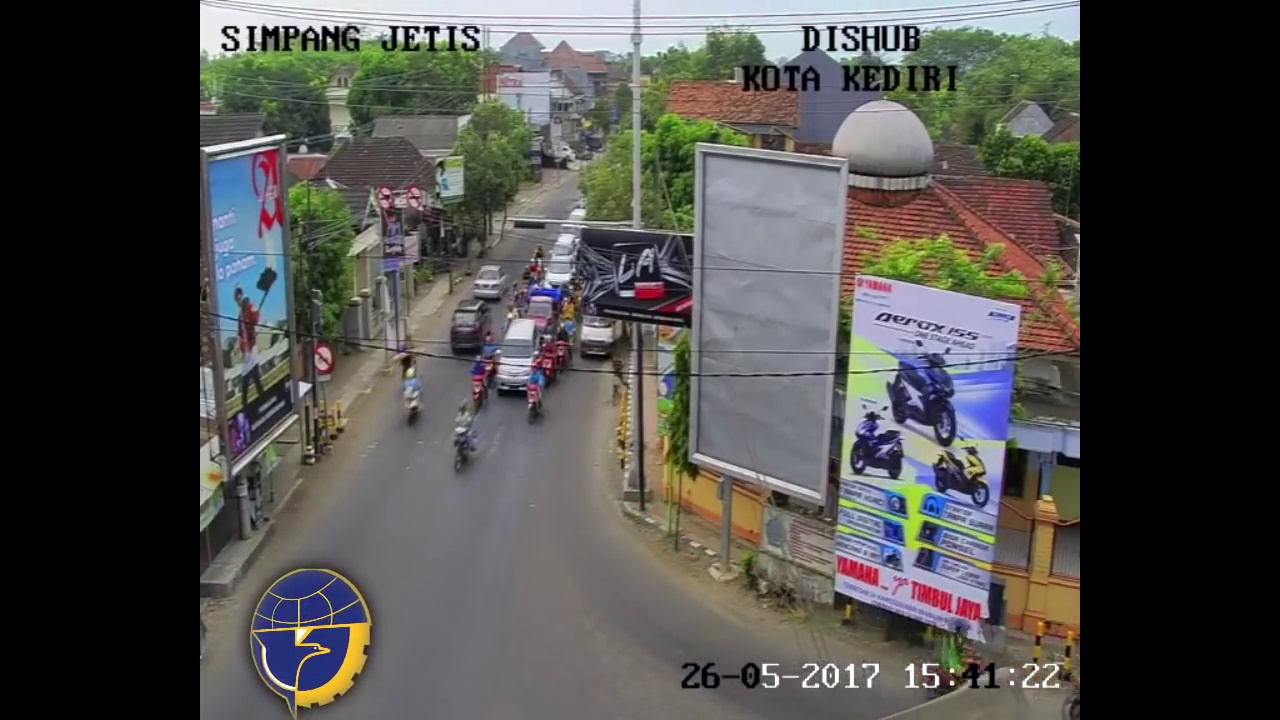car: (496, 317, 532, 401), (452, 299, 491, 352), (579, 313, 615, 360), (527, 293, 557, 343), (475, 266, 509, 304), (545, 257, 577, 295), (550, 234, 578, 263)
motorbike: (453, 404, 477, 475), (403, 366, 422, 427), (526, 365, 545, 421), (470, 358, 486, 408), (543, 334, 557, 387), (484, 336, 497, 385), (557, 325, 571, 370)
